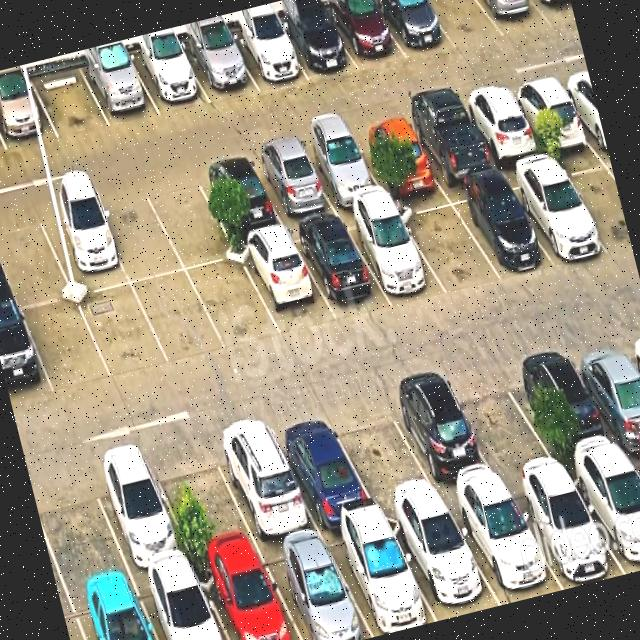empty: (445, 357, 561, 484), (145, 435, 258, 562), (325, 390, 442, 512), (29, 461, 130, 594), (394, 193, 500, 293), (141, 168, 237, 270), (92, 184, 184, 282), (77, 283, 170, 379), (132, 271, 226, 365), (21, 298, 112, 394), (187, 259, 281, 349), (553, 147, 632, 253), (0, 208, 73, 307), (30, 64, 110, 137), (424, 0, 503, 50)
occupied: (382, 372, 504, 501), (206, 414, 320, 546), (83, 447, 193, 576), (266, 405, 378, 530), (506, 472, 625, 589), (446, 486, 563, 604), (514, 341, 624, 466), (322, 517, 436, 637), (385, 504, 500, 621), (257, 535, 373, 640), (500, 159, 609, 263), (445, 178, 552, 278), (236, 230, 336, 337), (289, 217, 391, 319), (341, 205, 446, 303), (194, 549, 301, 640), (34, 196, 130, 295), (565, 330, 640, 451), (566, 453, 640, 573), (402, 102, 497, 185), (193, 155, 285, 240), (248, 143, 337, 224), (296, 130, 386, 210), (134, 564, 228, 640), (350, 116, 441, 194), (458, 87, 546, 165), (507, 75, 594, 151), (274, 7, 358, 80), (127, 44, 210, 115), (79, 54, 160, 126), (323, 0, 406, 70), (226, 22, 308, 90), (0, 305, 54, 405), (70, 579, 157, 640), (181, 34, 258, 102), (374, 0, 455, 58), (0, 76, 58, 150), (478, 0, 551, 36), (534, 0, 575, 23)
